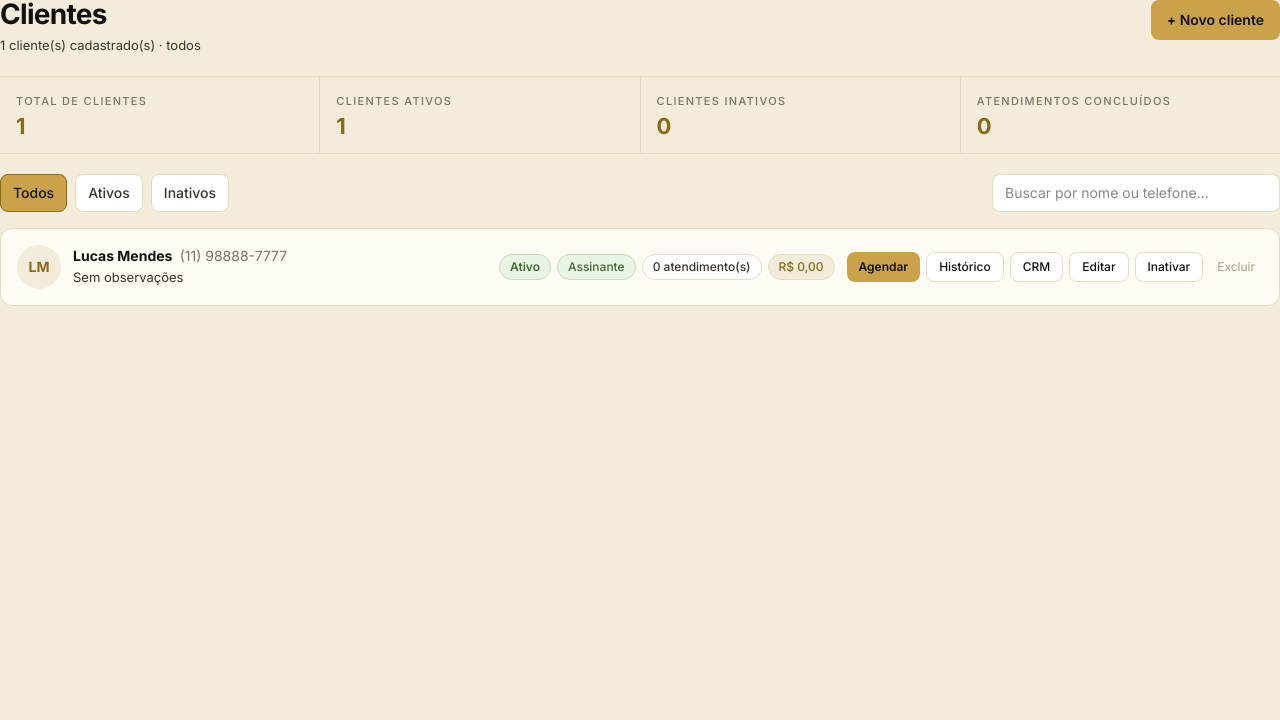
Test: Clientes — página (filtros, status e ações) › perfil do cliente mostra a assinatura do Audax Club com plano e status
This screenshot has width=1280, height=720.
Step 1. Click the button "Histórico" → (965, 267), box x1=926 y1=252 x2=1004 y2=282
(page scrolled)
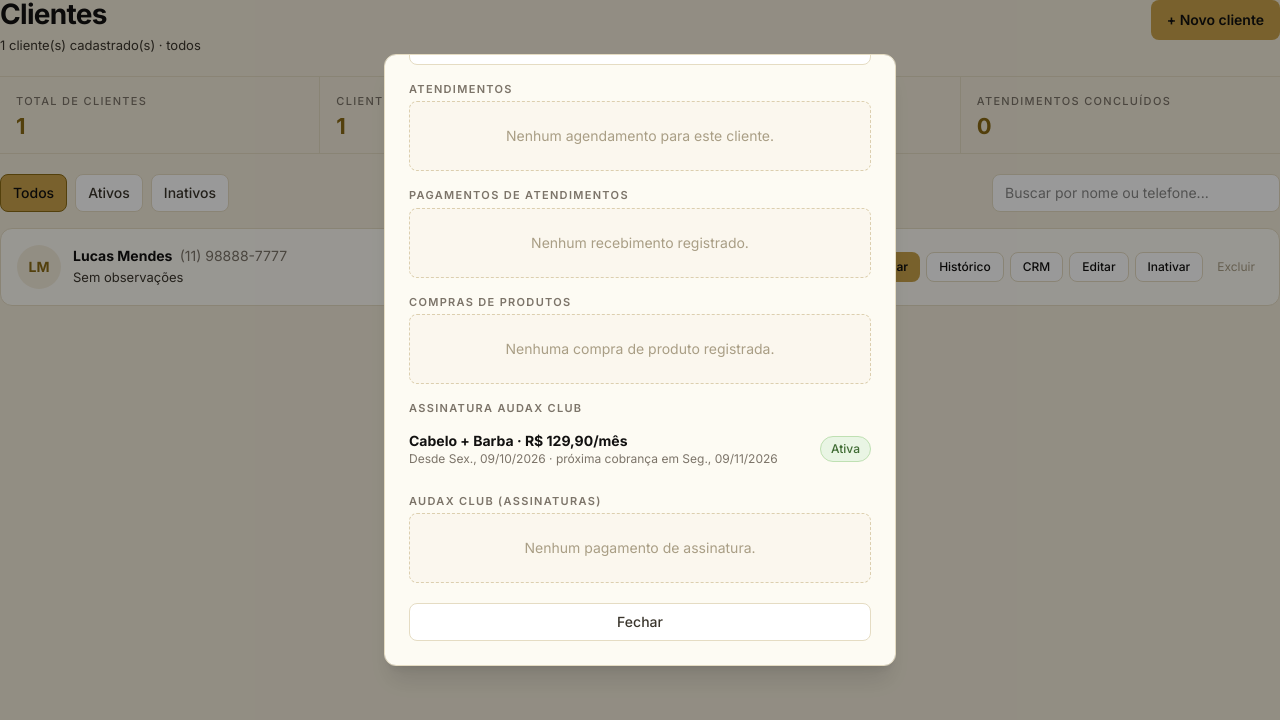
Expected: the text "Ativa" is shown, x1=820 y1=436 x2=871 y2=462
